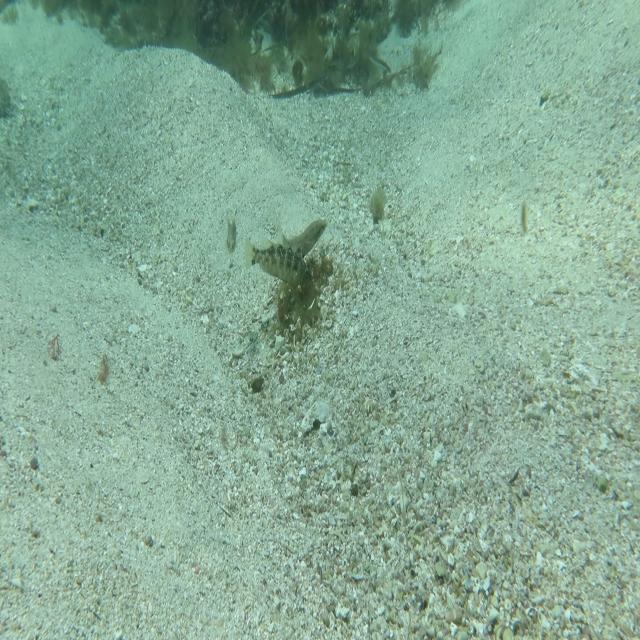NIP_CORE: (241, 236, 315, 292)
female: (270, 214, 329, 254), (219, 203, 242, 256)
nest: (262, 240, 328, 328)
vegetation: (83, 0, 450, 44), (216, 45, 434, 101), (366, 177, 386, 229)
